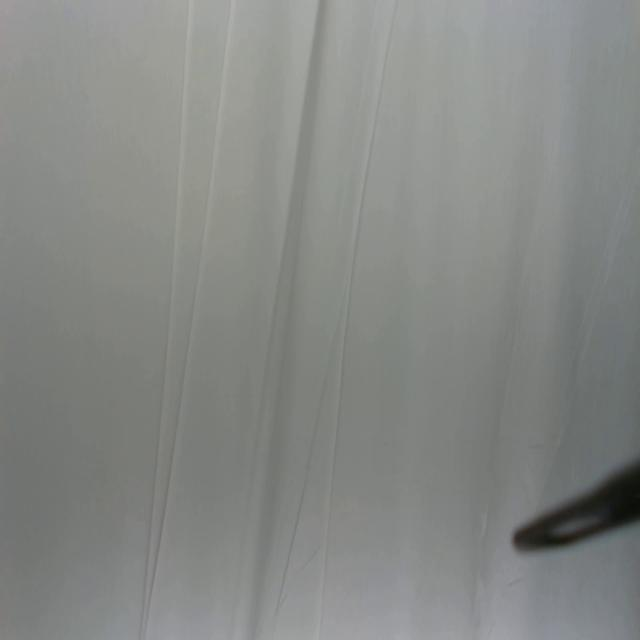crease: (139, 0, 235, 636), (320, 0, 396, 637), (272, 410, 318, 620)
